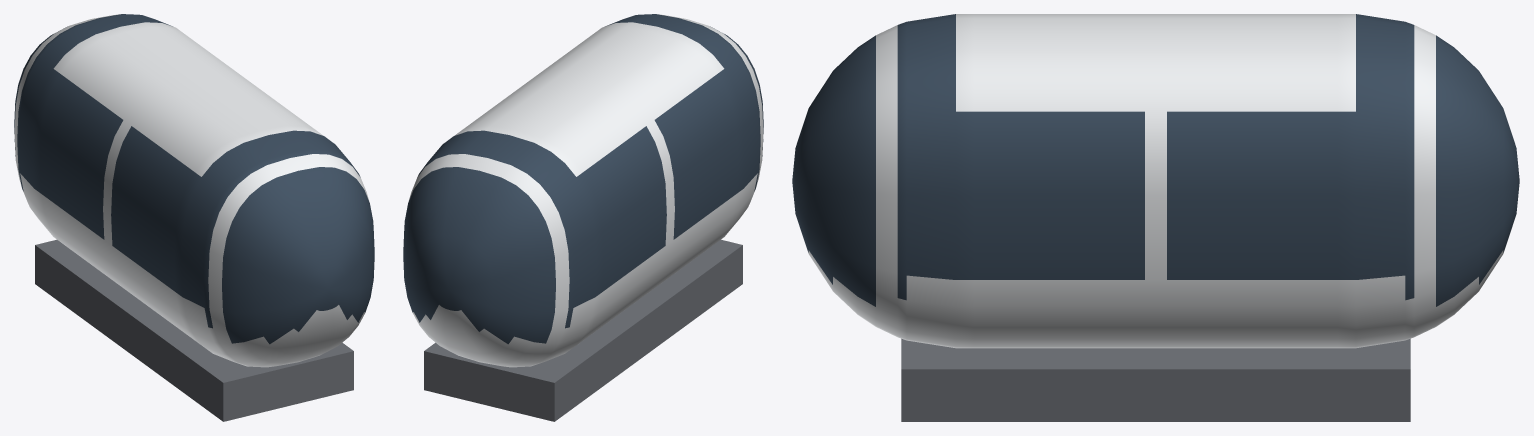
File: pod.glb
3 views of the same model, side by side, from view 1: azimuth 30°, elevation 25°; view 2: azimuth 150°, elevation 25°; view 3: azimuth 270°, elevation 25° (orthographic). The views are drawn at different scales.
Parts seen in each view (by area): view 1: glass, shell, gear; view 2: glass, shell, gear; view 3: glass, shell, gear.
Boxes of the visible parts, x1,y1,x2,y2 form: glass: [14, 14, 374, 344]; shell: [14, 14, 369, 367]; gear: [35, 239, 353, 421]; glass: [403, 14, 763, 344]; shell: [408, 14, 763, 367]; gear: [424, 239, 742, 421]; glass: [792, 14, 1519, 306]; shell: [799, 14, 1512, 348]; gear: [901, 338, 1410, 421].
Bounding box in the file's own units: 1.5 × 2.1 × 4.
